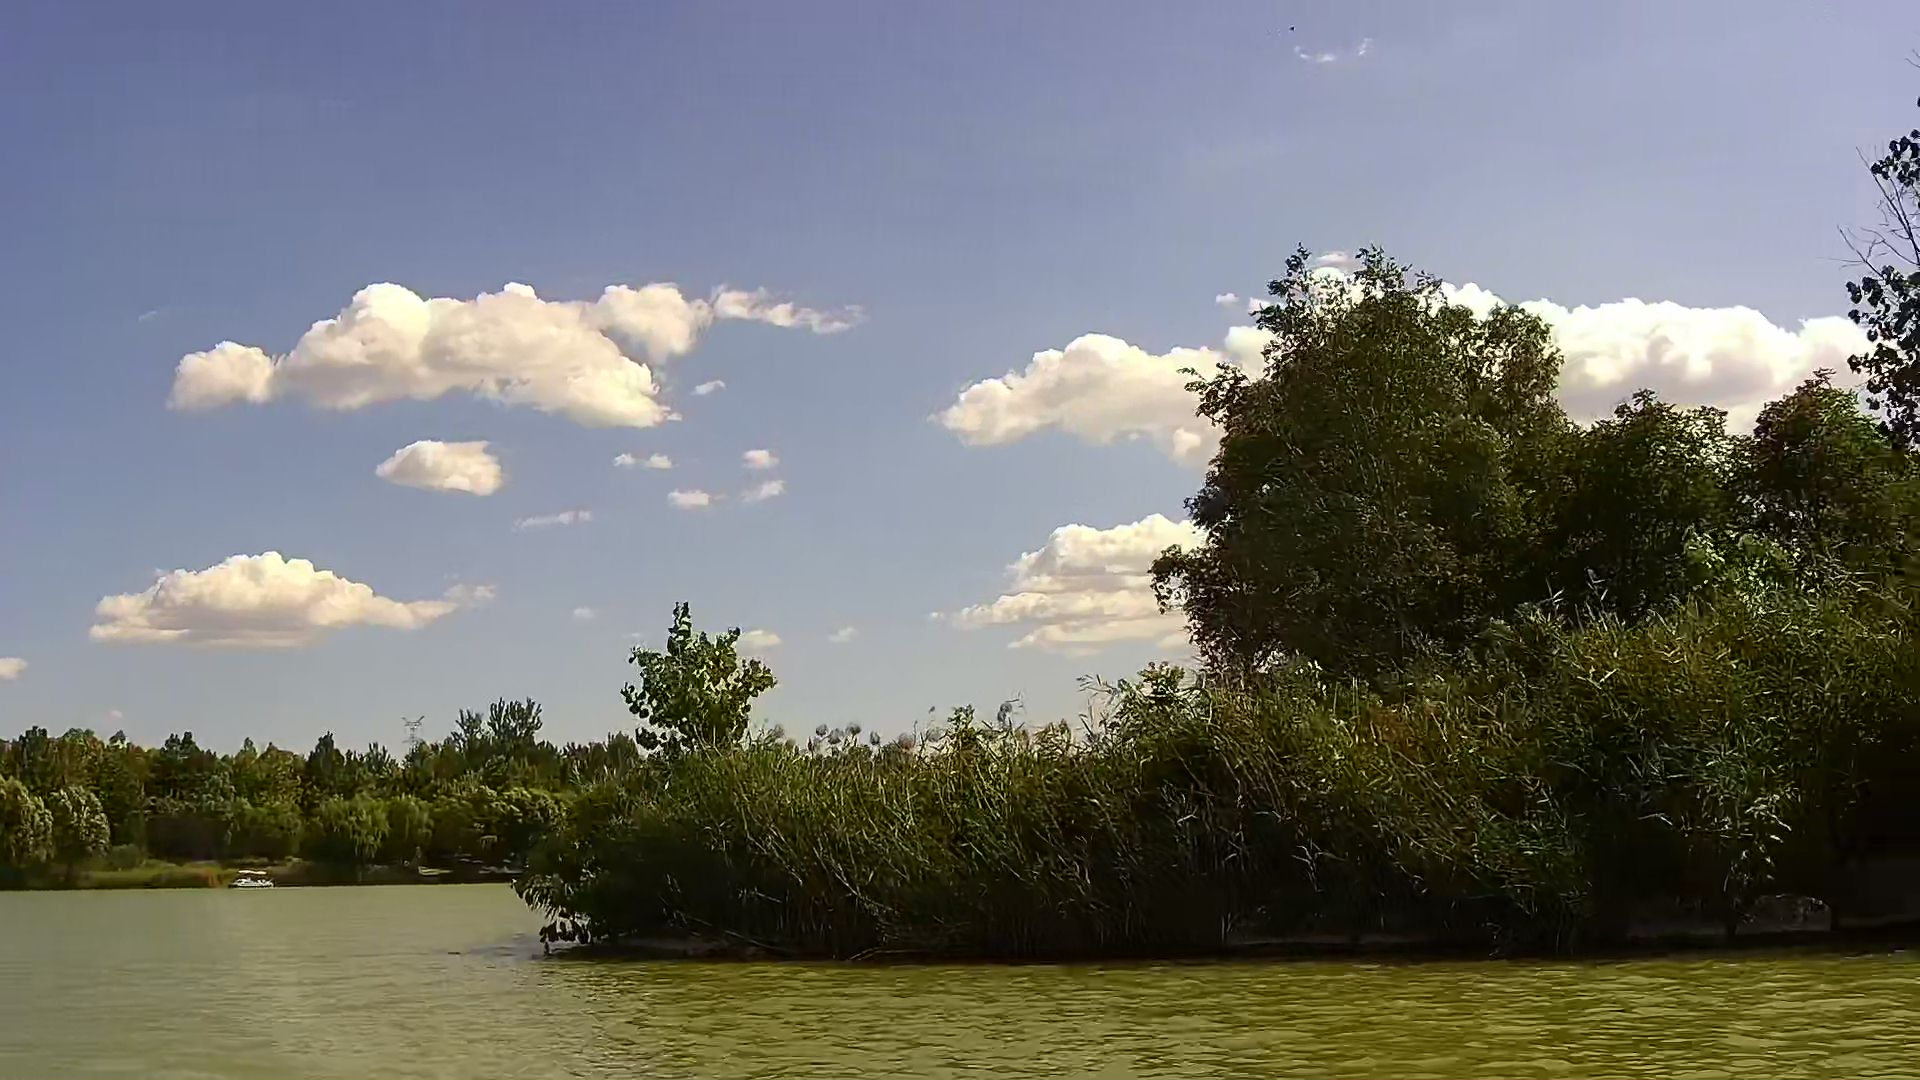boat: (222, 869, 273, 894)
